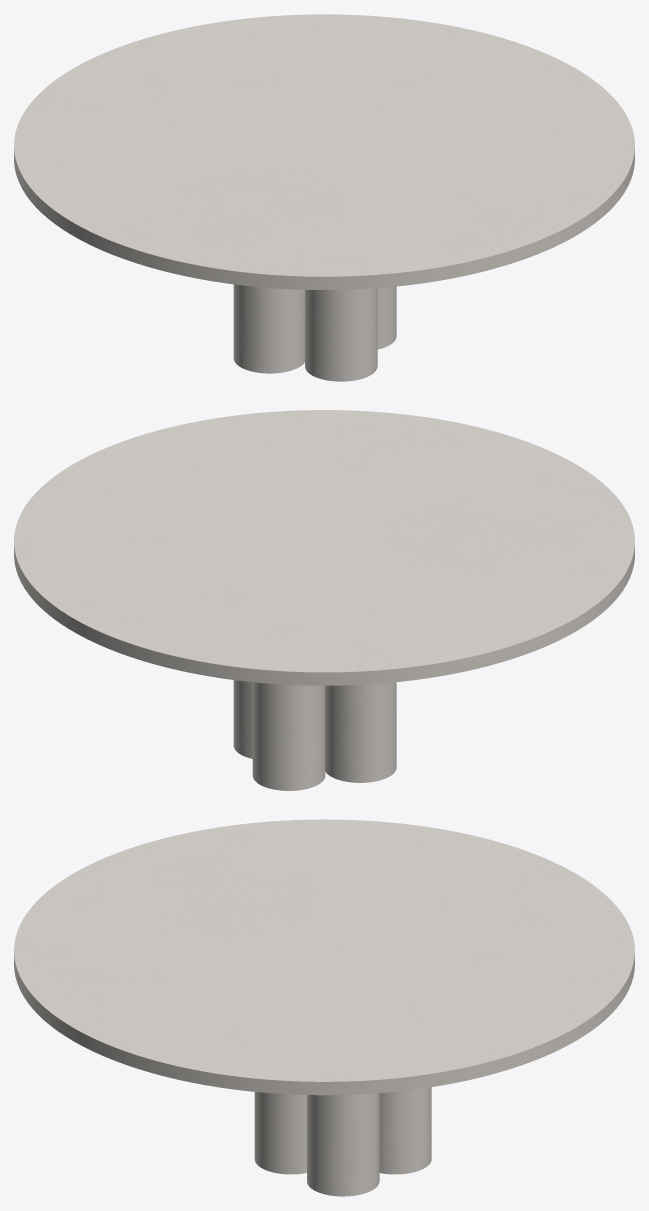
Rendered from pearlwhite_round_standard_secondtable.glb.
3 renders of one model, top to bottom at view 1: azimuth 30°, elevation 25°; view 2: azimuth 150°, elevation 25°; view 3: azimuth 270°, elevation 25°, orthographic.
Visible parts, largest first — view 1: standard_round, secondtable; view 2: standard_round, secondtable; view 3: standard_round, secondtable.
Part boxes in pixels (x1,y1,x2,y2): standard_round: [14, 14, 634, 289]; secondtable: [233, 284, 396, 381]; standard_round: [14, 410, 634, 685]; secondtable: [233, 680, 396, 790]; standard_round: [14, 819, 634, 1095]; secondtable: [254, 1087, 431, 1196].
Size of the model in its own units: 6.75 by 2.5 by 6.75.
Materials: 1 (1 with a texture image).
